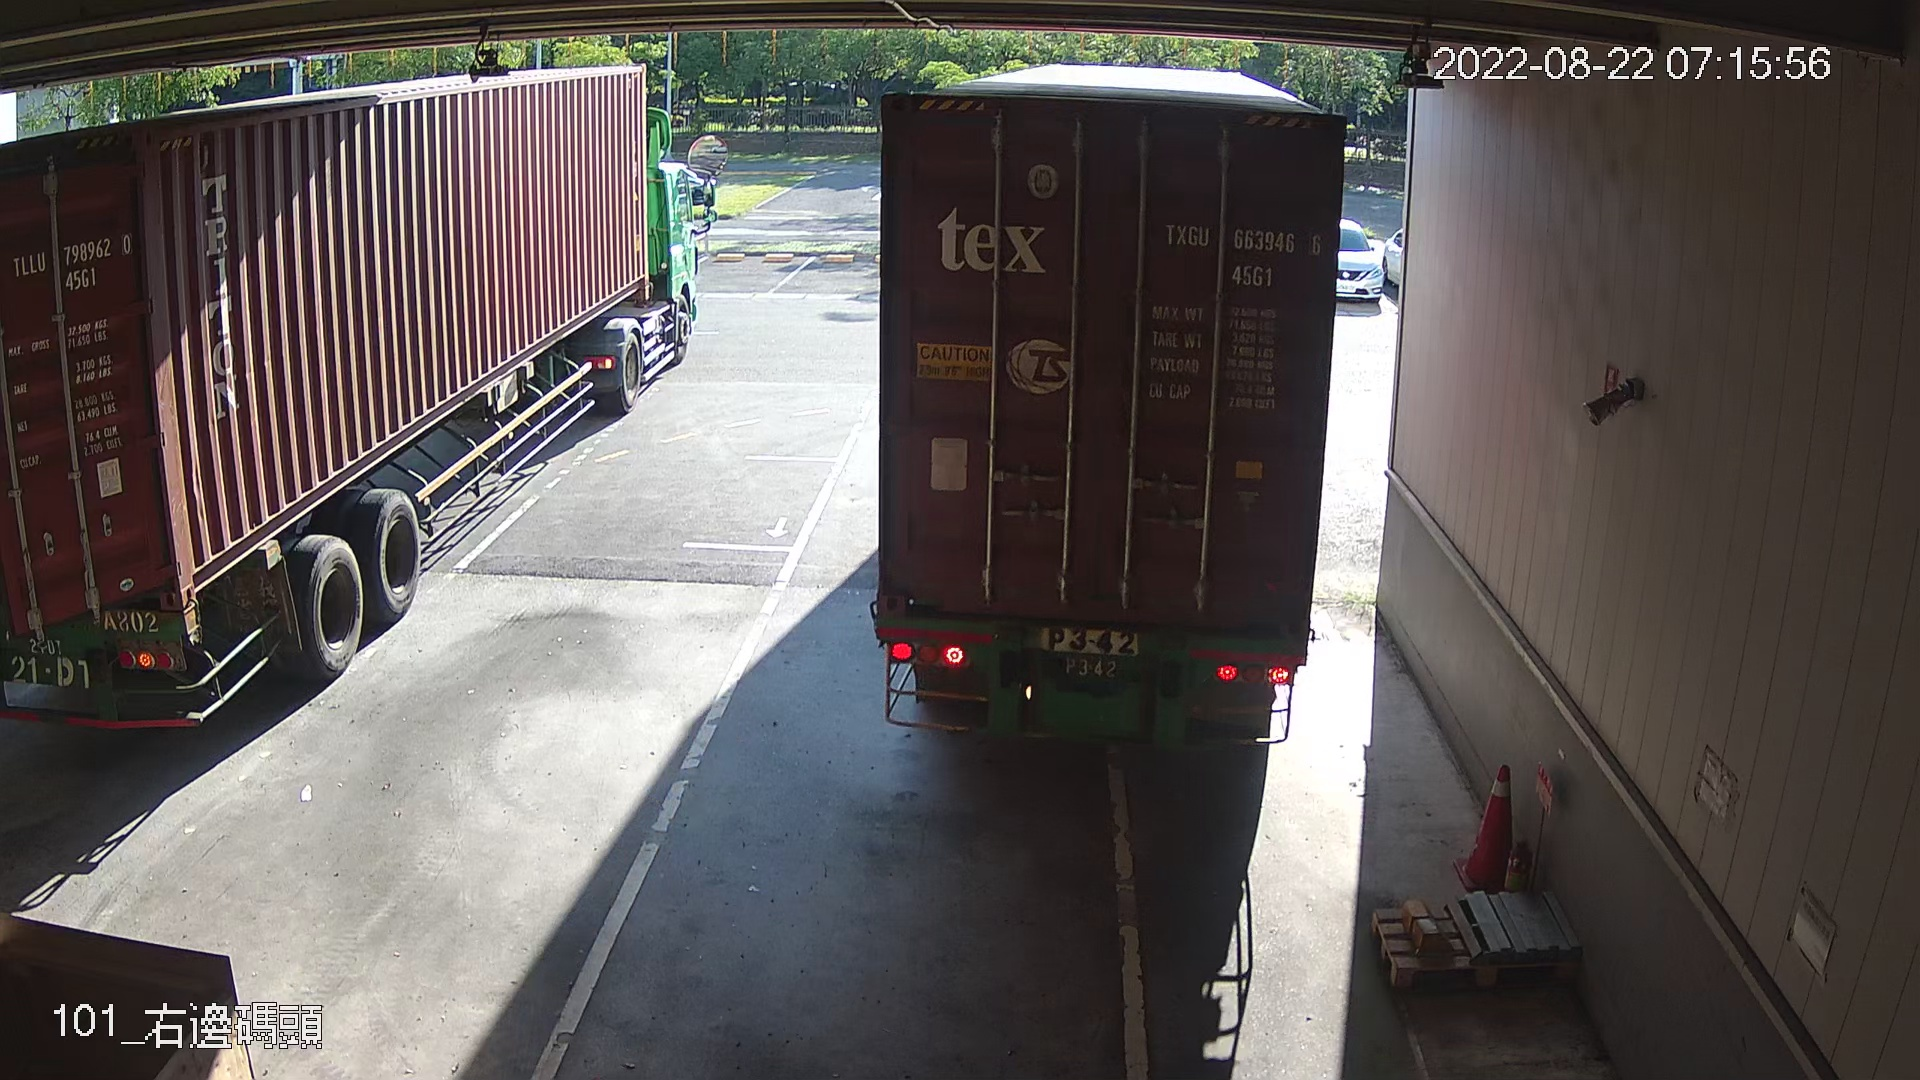container: (1154, 214, 1331, 291)
